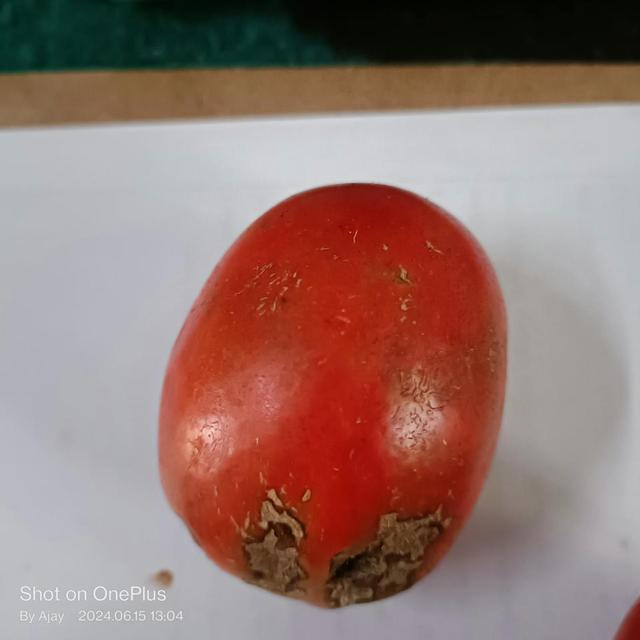Bacterial Spot Fruit: (61, 63, 254, 371)
